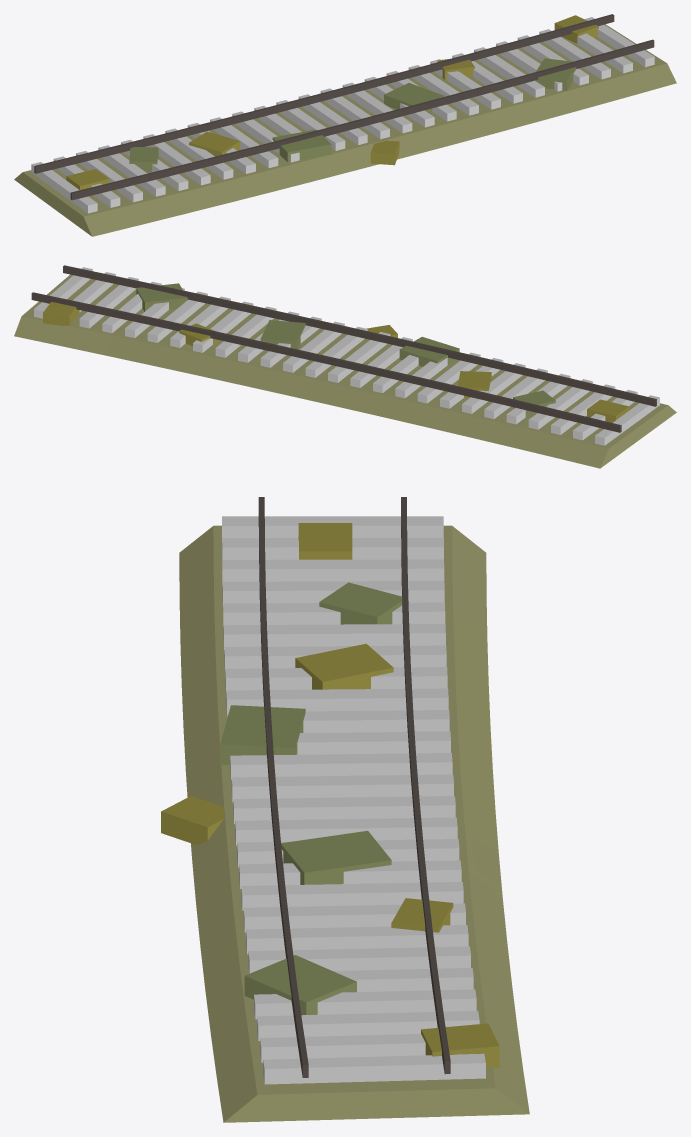
Rendered from SM_Via_CurvaR240_v2_Maleza_LOD0.fbx.
The picture shows the model from 3 angles, top to bottom: view 1: azimuth 30°, elevation 25°; view 2: azimuth 150°, elevation 25°; view 3: azimuth 270°, elevation 25°; orthographic projection. The views are drawn at different scales.
Parts seen in each view (by area): view 1: SM_via_trazado_v22_LOD0; view 2: SM_via_trazado_v22_LOD0; view 3: SM_via_trazado_v22_LOD0.
Boxes of the visible parts, box(x1,y1,x2,y2) form: SM_via_trazado_v22_LOD0: box(14, 14, 676, 236); SM_via_trazado_v22_LOD0: box(14, 265, 676, 468); SM_via_trazado_v22_LOD0: box(161, 497, 529, 1122).
Bounding box in the file's own units: 15.81 × 0.72 × 4.32.
